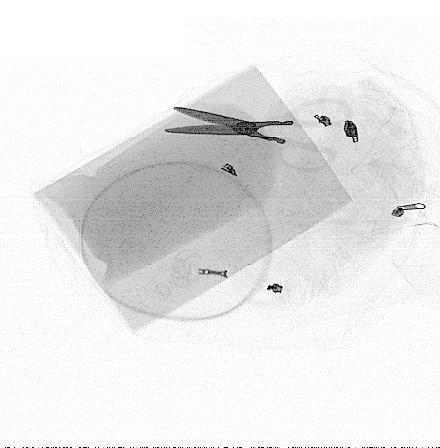Scissors: (163, 95, 356, 174)
